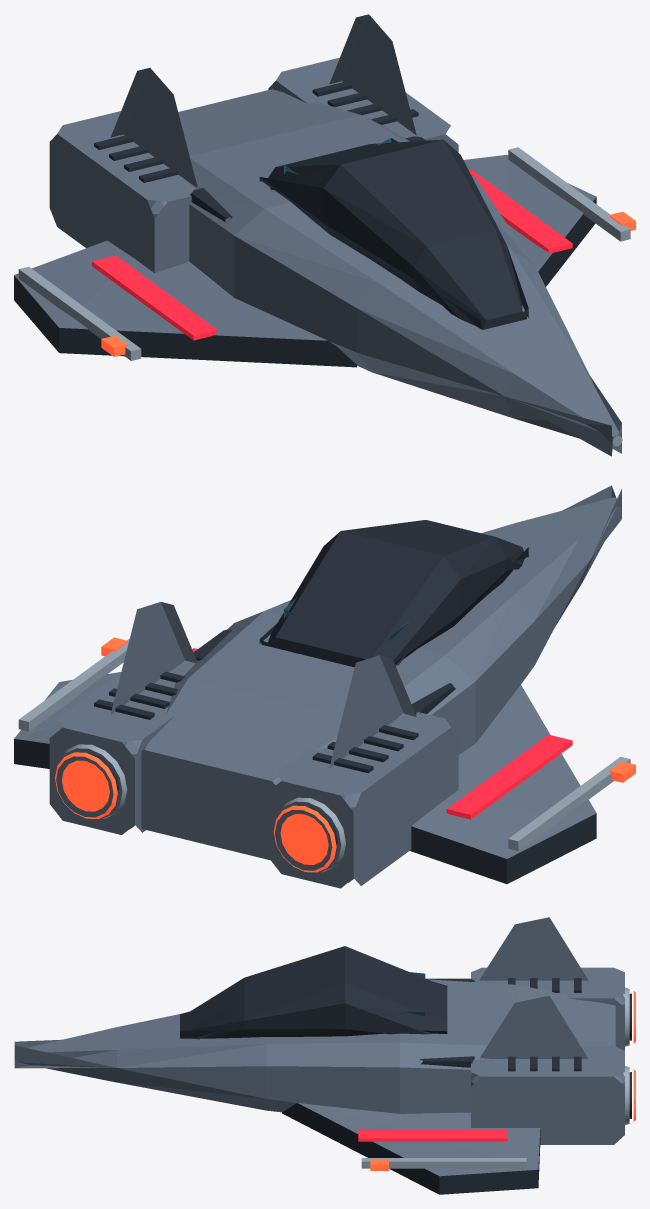
Rendered from red_scout.glb.
The picture shows the model from 3 angles, top to bottom: view 1: azimuth 30°, elevation 25°; view 2: azimuth 150°, elevation 25°; view 3: azimuth 270°, elevation 25°; orthographic projection. The views are drawn at different scales.
Parts seen in each view (by area): view 1: Hull; view 2: Hull; view 3: Hull.
Boxes of the visible parts, x1,y1,x2,y2 form: Hull: (14,14,635,456); Hull: (14,485,635,888); Hull: (14,917,635,1194).
Size of the model in its own units: 2.9 by 0.99 by 3.96.
